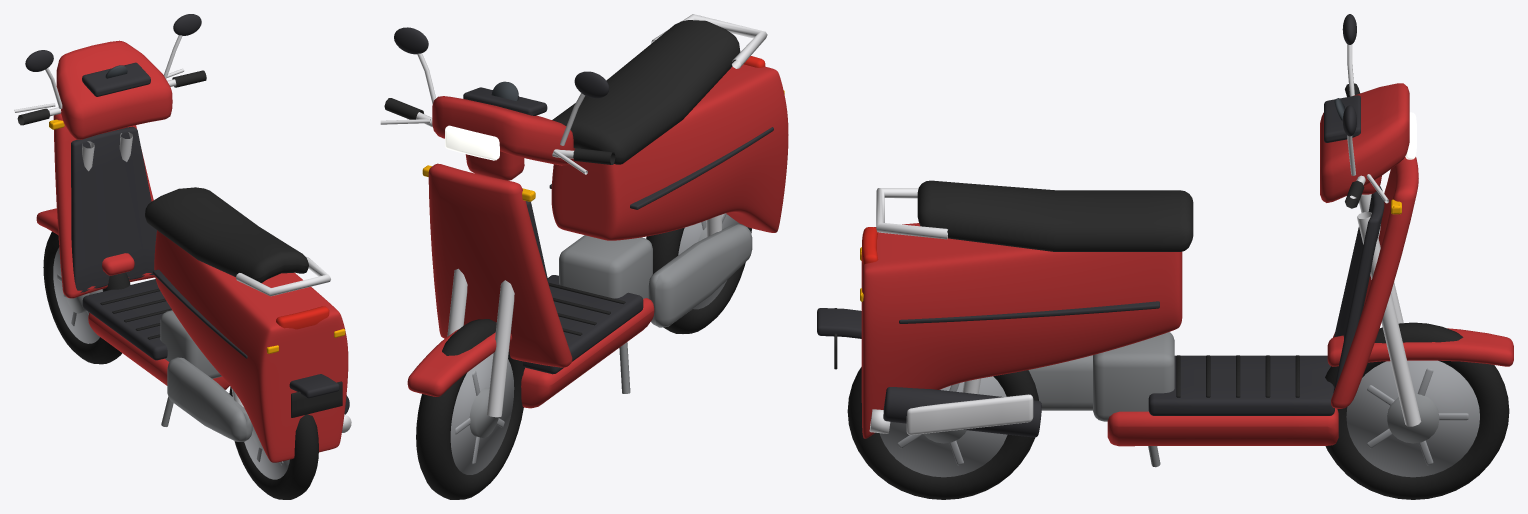
Rendered from motor.glb.
The picture shows the model from 3 angles, left to right: view 1: azimuth 30°, elevation 25°; view 2: azimuth 150°, elevation 25°; view 3: azimuth 270°, elevation 25°; orthographic projection. The views are drawn at different scales.
Visible parts, largest first — view 1: bodi_belakang, tameng_dalam, jok, batok, cvt, dek, tameng_depan, belakang_ban, depan_ban, mesin, rok_bawah, panel (+10 smaller); view 2: bodi_belakang, tameng_depan, jok, depan_ban, cvt, batok, mesin, dek, depan_velg, rok_bawah, slebor_depan, belakang_ban (+13 smaller); view 3: bodi_belakang, jok, dek, depan_velg, depan_ban, rok_bawah, belakang_ban, batok, tameng_depan, mesin, belakang_velg, tutup_knalpot (+10 smaller).
Boxes of the visible parts, x1,y1,x2,y2 form: bodi_belakang: [154, 230, 348, 462]; tameng_dalam: [71, 126, 156, 292]; jok: [145, 187, 308, 282]; batok: [56, 40, 172, 139]; cvt: [167, 357, 252, 441]; dek: [82, 279, 170, 360]; tameng_depan: [53, 113, 155, 298]; belakang_ban: [229, 386, 318, 499]; depan_ban: [43, 231, 130, 364]; mesin: [160, 310, 221, 378]; rok_bawah: [88, 313, 229, 389]; panel: [82, 62, 150, 96]; bodi_belakang: [551, 64, 788, 240]; tameng_depan: [428, 163, 572, 367]; jok: [552, 20, 740, 164]; depan_ban: [416, 319, 524, 499]; cvt: [648, 224, 752, 327]; batok: [432, 96, 573, 165]; mesin: [559, 235, 652, 298]; dek: [522, 275, 643, 374]; depan_velg: [450, 353, 514, 474]; rok_bawah: [521, 298, 654, 408]; slebor_depan: [407, 329, 511, 396]; belakang_ban: [646, 226, 751, 333]; bodi_belakang: [861, 223, 1182, 438]; jok: [917, 180, 1193, 251]; dek: [1148, 355, 1334, 415]; depan_velg: [1346, 360, 1479, 477]; depan_ban: [1325, 322, 1509, 499]; rok_bawah: [1107, 408, 1338, 446]; belakang_ban: [847, 367, 1038, 499]; batok: [1320, 83, 1409, 202]; tameng_depan: [1331, 157, 1418, 408]; mesin: [1093, 332, 1174, 421]; belakang_velg: [879, 376, 1007, 477]; tutup_knalpot: [906, 394, 1033, 435].
Bounding box in the file's own units: 0.7253 × 1.29 × 1.87.
